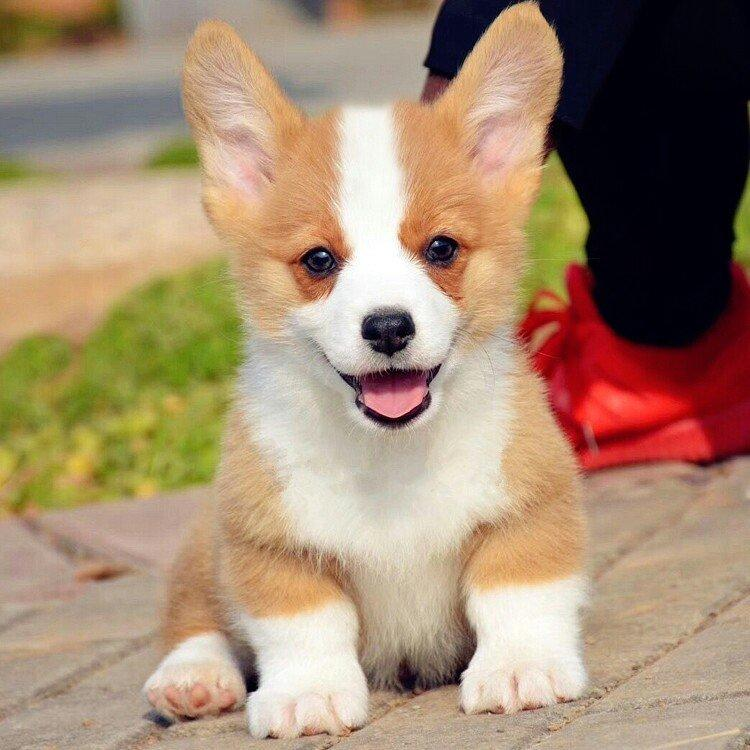dog: (138, 1, 593, 739)
